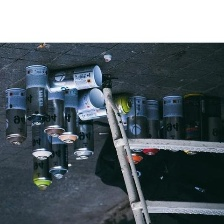aerosol_cans: (74, 88, 135, 125), (38, 61, 105, 94), (178, 88, 209, 158), (121, 91, 150, 157), (23, 62, 50, 128), (2, 85, 29, 147), (158, 91, 185, 153), (28, 134, 56, 193), (57, 81, 81, 145), (138, 96, 162, 160), (26, 106, 53, 162), (71, 107, 97, 164), (46, 125, 70, 181), (41, 87, 67, 138)
